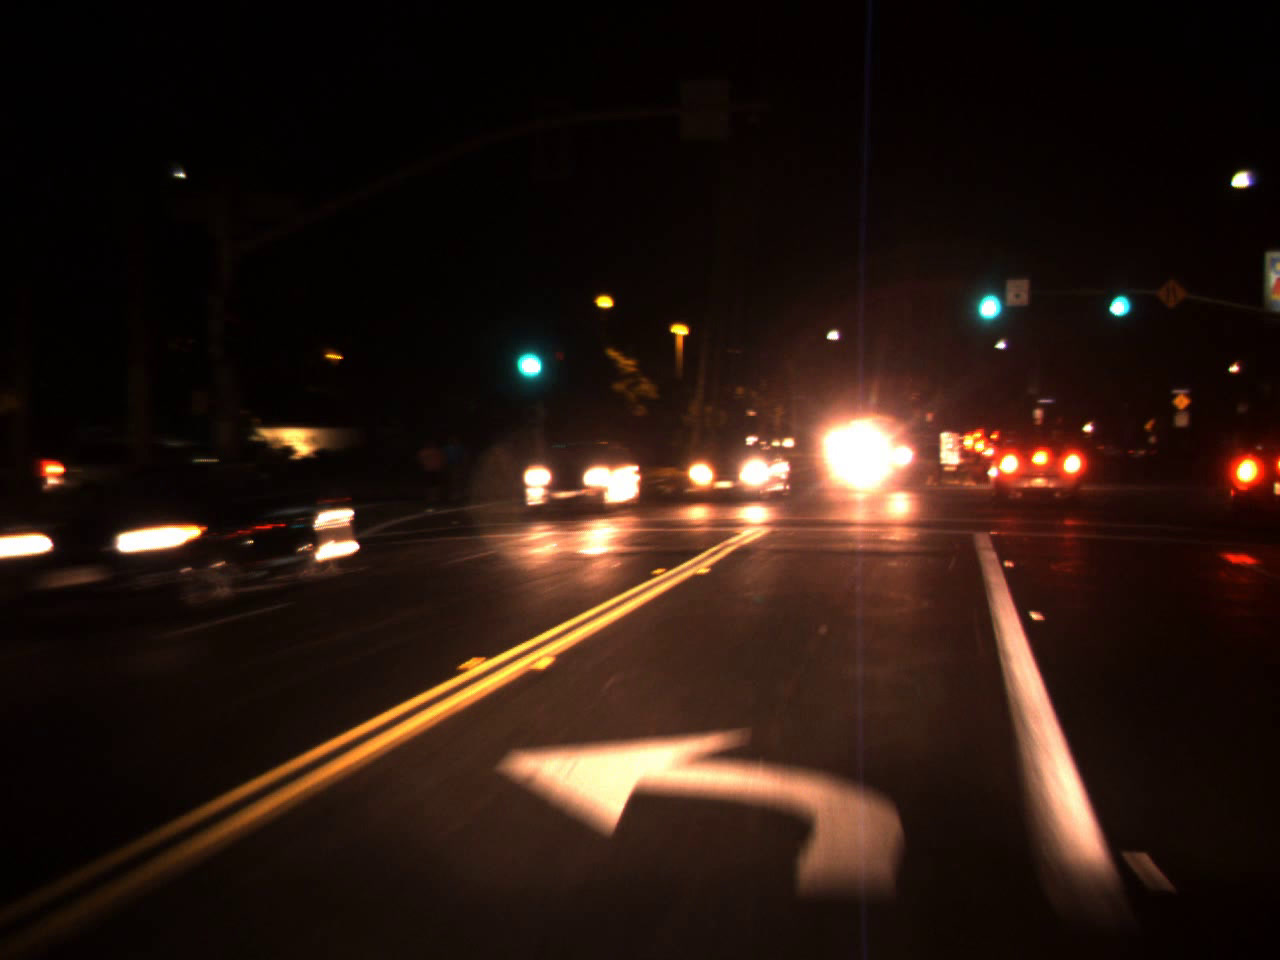go: (506, 321, 547, 387), (968, 263, 1005, 329), (1103, 270, 1133, 324)
